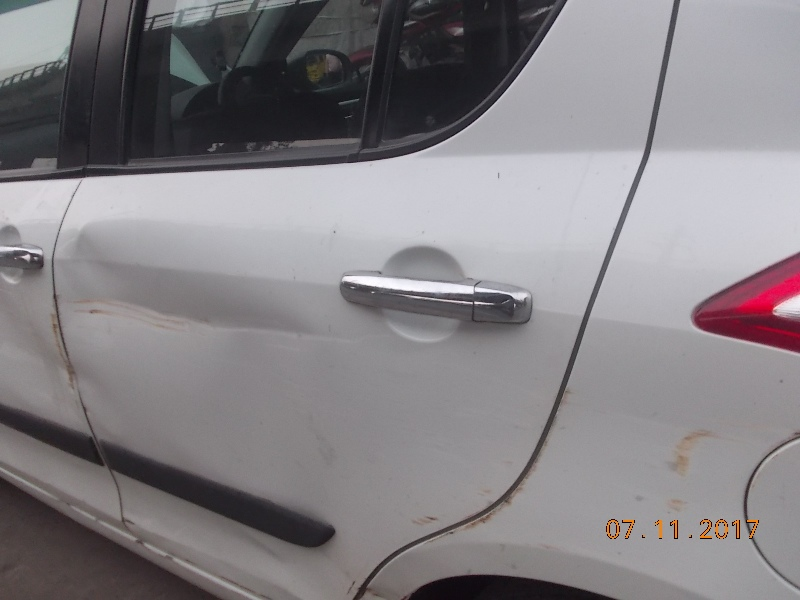Dent: (76, 229, 306, 362)
